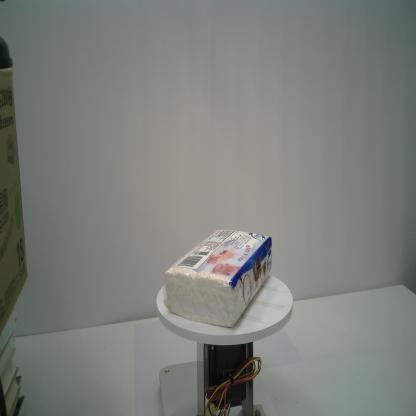Tissue: (158, 227, 274, 328)
